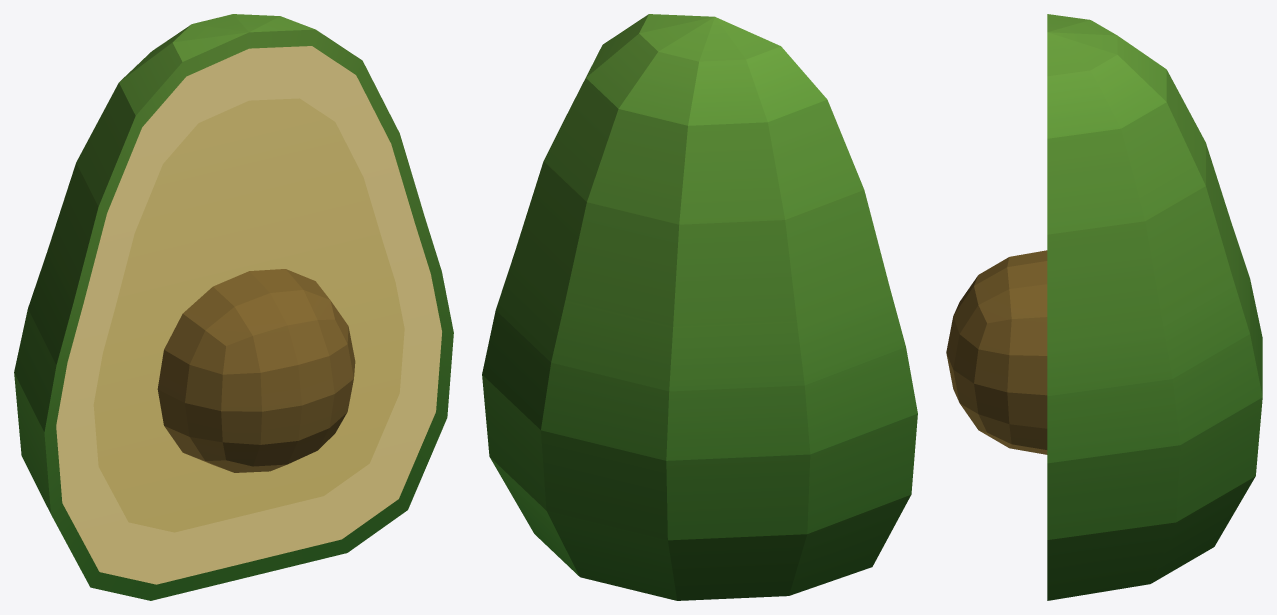
The model's file is avocado_2.fbx.
3 renders of one model, left to right at view 1: azimuth 30°, elevation 25°; view 2: azimuth 150°, elevation 25°; view 3: azimuth 270°, elevation 25°, orthographic. The views are drawn at different scales.
Visible parts, largest first — view 1: avocado_2; view 2: avocado_2; view 3: avocado_2.
Boxes of the visible parts, x1,y1,x2,y2 form: avocado_2: (14,14,453,600); avocado_2: (482,14,917,600); avocado_2: (946,14,1262,600).
Bounding box in the file's own units: 0.0571 × 0.0725 × 0.0399.
